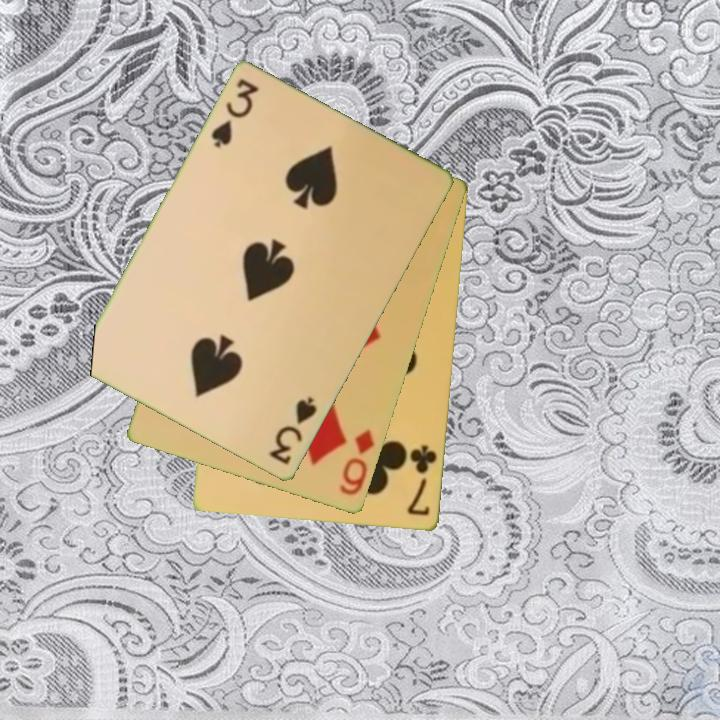3s: (207, 75, 262, 152), (265, 394, 320, 468)
6d: (336, 426, 378, 499)
7c: (404, 442, 440, 519)
